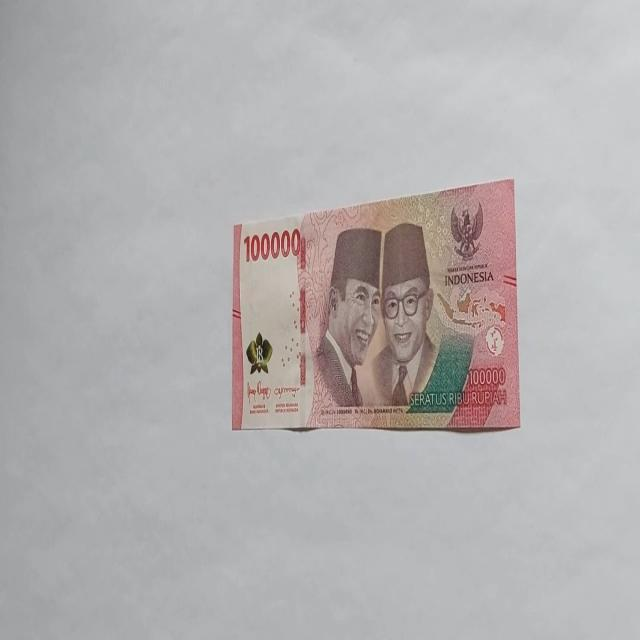seratus ribu rupiah: (231, 177, 520, 433)
